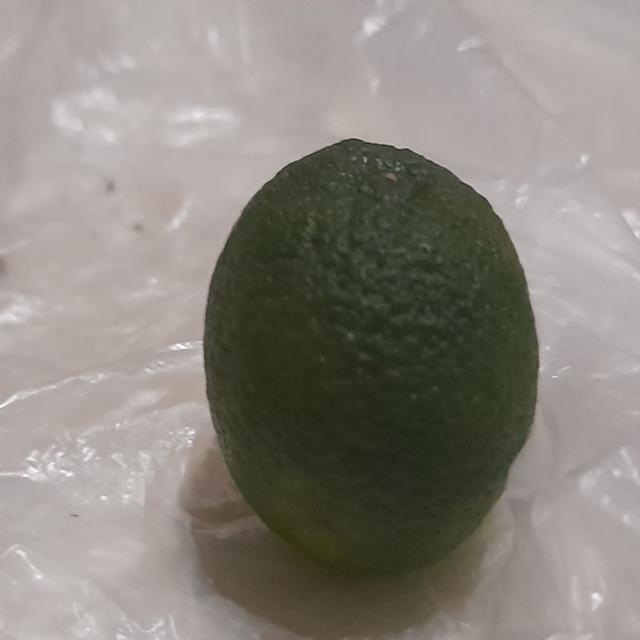heathy: (198, 131, 542, 581)
